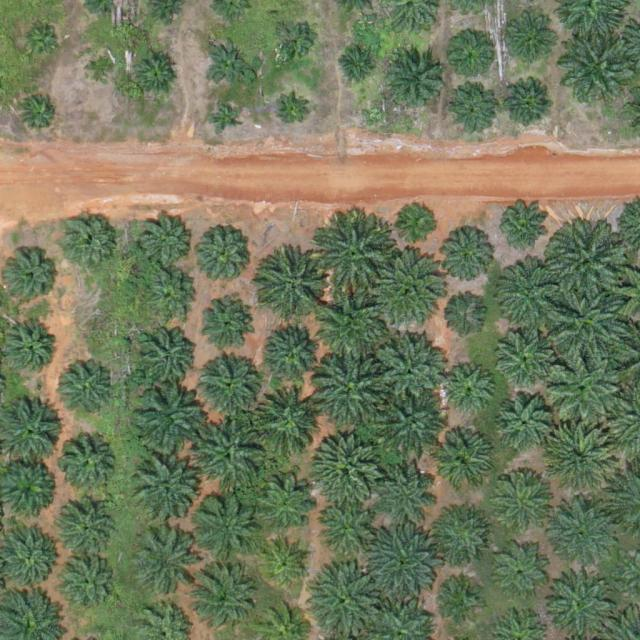Healthy: (548, 223, 626, 302), (316, 220, 394, 299), (550, 282, 628, 360), (550, 352, 621, 423), (367, 526, 438, 597), (251, 388, 322, 459), (560, 30, 631, 101), (544, 425, 614, 496), (545, 501, 615, 572), (497, 257, 567, 328), (376, 334, 446, 405), (379, 255, 449, 326), (312, 357, 383, 427), (310, 432, 381, 502), (316, 568, 386, 639), (247, 469, 317, 540), (195, 422, 265, 493), (192, 491, 262, 562), (190, 563, 260, 634), (133, 386, 203, 457), (379, 389, 449, 459), (318, 294, 388, 364), (377, 456, 440, 519), (192, 223, 255, 286), (200, 354, 263, 417), (52, 361, 115, 424), (55, 499, 118, 562), (265, 321, 327, 384), (130, 531, 192, 594), (132, 460, 195, 522), (135, 325, 198, 387), (58, 432, 120, 495), (56, 554, 118, 617), (383, 50, 445, 113), (433, 432, 495, 494), (262, 257, 324, 319), (439, 230, 494, 286), (497, 394, 552, 449), (496, 329, 551, 384), (440, 363, 495, 418), (314, 503, 369, 558), (197, 296, 252, 351), (139, 216, 194, 271), (61, 214, 116, 269), (498, 473, 552, 528), (436, 508, 490, 563), (147, 268, 201, 323), (6, 251, 60, 306), (501, 11, 555, 66), (506, 83, 553, 131), (451, 86, 498, 134), (500, 552, 547, 599)
Small: (259, 537, 314, 592), (497, 202, 551, 257), (441, 296, 488, 344), (133, 51, 180, 98), (206, 40, 253, 87), (338, 49, 378, 89), (399, 203, 439, 243), (448, 38, 488, 77), (21, 95, 60, 134), (273, 21, 312, 60), (442, 582, 481, 621), (21, 21, 60, 60), (277, 97, 308, 129), (210, 103, 241, 135), (86, 55, 117, 86)
